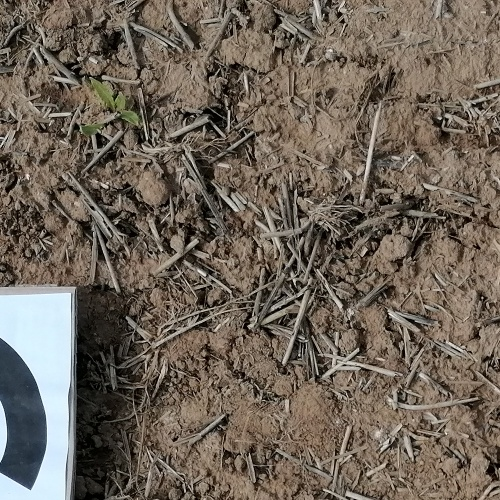beet: (78, 77, 142, 136)
